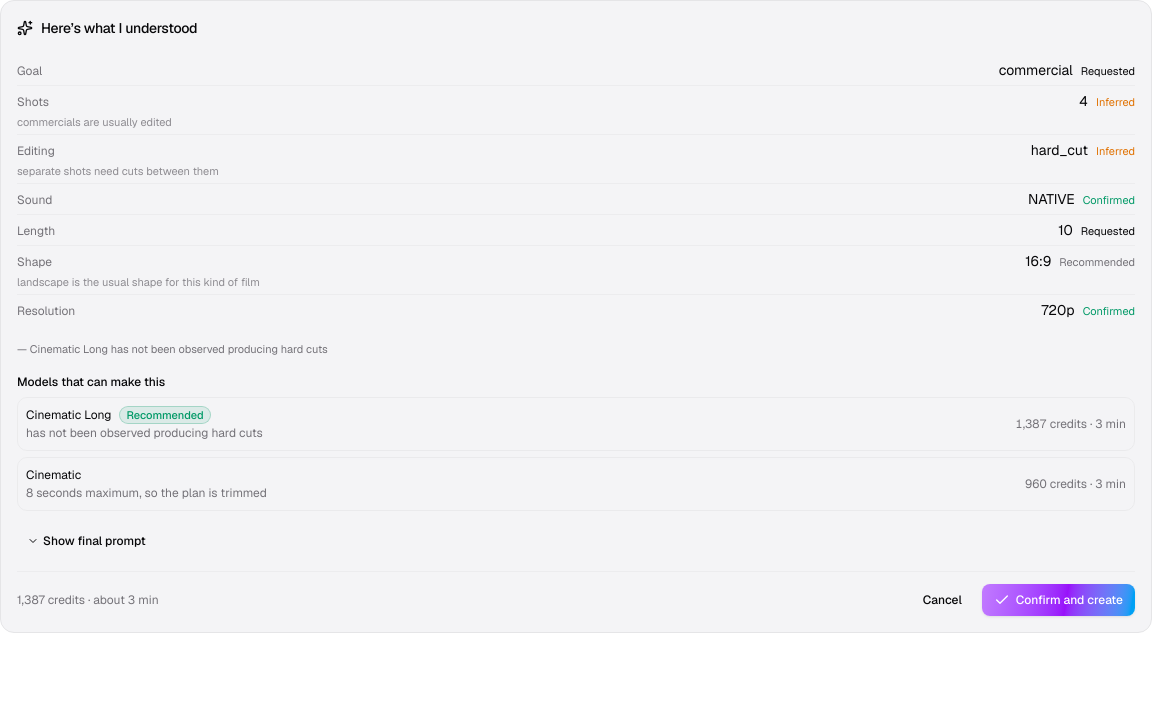
Test case: the final prompt is the server's › shows the compiler and version that produced it
The image size is (1152, 720).
Click the button "Show final prompt" at (86, 541), box left=17, top=527, right=156, bottom=555
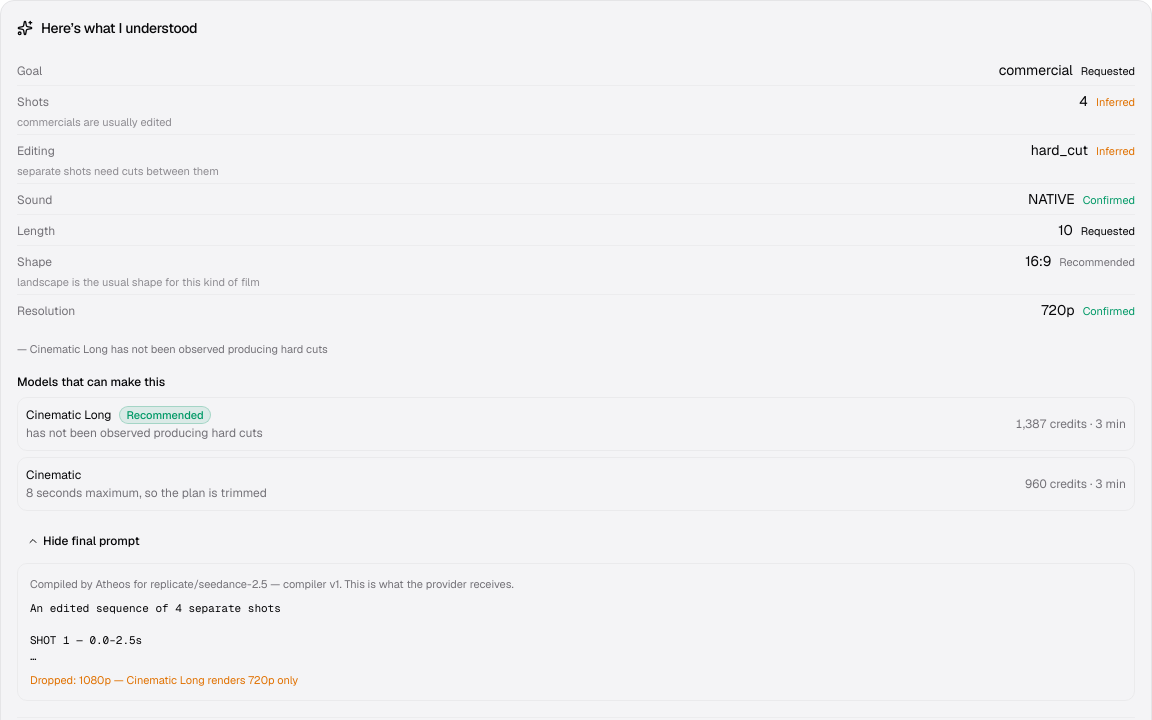
Expected: the text "compiler v1" is shown, left=30, top=577, right=514, bottom=591
Expected: the text "This is what the provider receives" is shown, left=340, top=577, right=514, bottom=591
Expected: the text "An edited sequence of 4 separate shots SHOT 1 — 0.0–2.5s …" is shown, left=30, top=601, right=281, bottom=663
